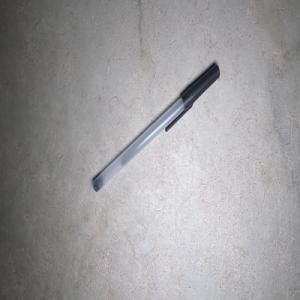Pen: (92, 64, 219, 191)
